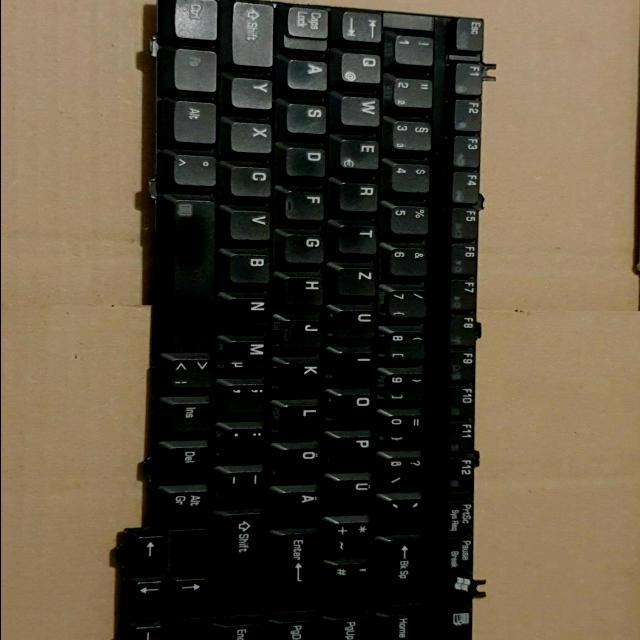0: (377, 408, 429, 446)
1: (395, 32, 438, 65)
2: (393, 74, 436, 108)
3: (391, 116, 435, 150)
4: (391, 159, 435, 192)
5: (390, 202, 433, 234)
6: (384, 242, 432, 276)
7: (383, 284, 431, 319)
8: (378, 325, 431, 361)
9: (378, 366, 430, 403)
a: (288, 56, 330, 90)
accent: (375, 493, 427, 531)
ae: (274, 486, 320, 526)
alt-left: (174, 97, 220, 143)
altgr-right: (156, 482, 215, 523)
b: (230, 249, 274, 283)
c: (232, 162, 275, 196)
caret: (172, 151, 220, 185)
comma: (220, 378, 271, 414)
d: (286, 143, 329, 177)
del: (375, 533, 428, 603)
e: (335, 134, 383, 170)
enter: (268, 526, 322, 610)
f: (285, 187, 328, 220)
g: (285, 229, 327, 262)
h: (283, 271, 327, 306)
hash: (321, 559, 373, 607)
i: (326, 344, 378, 383)
j: (283, 315, 325, 348)
k: (278, 358, 324, 394)
keyboard: (128, 0, 494, 640)
l: (272, 399, 324, 437)
less: (160, 352, 217, 390)
m: (217, 333, 273, 374)
minus: (216, 464, 270, 504)
n: (225, 292, 273, 328)
o: (327, 387, 377, 425)
oe: (270, 441, 323, 483)
p: (328, 430, 377, 469)
plus: (322, 515, 376, 556)
point: (219, 423, 270, 461)
q: (340, 49, 384, 83)
r: (339, 178, 381, 212)
s: (287, 99, 330, 133)
shift-left: (233, 0, 279, 66)
shift-lock: (284, 6, 330, 50)
shift-right: (212, 505, 268, 613)
space: (160, 194, 220, 346)
ss: (377, 450, 427, 490)
strg-left: (174, 0, 222, 40)
t: (338, 222, 380, 254)
tab: (343, 10, 385, 42)
u: (333, 303, 379, 338)
ue: (323, 471, 377, 514)
v: (231, 206, 274, 240)
w: (341, 92, 384, 126)
x: (231, 118, 275, 152)
y: (233, 75, 275, 109)
z: (332, 262, 380, 297)
